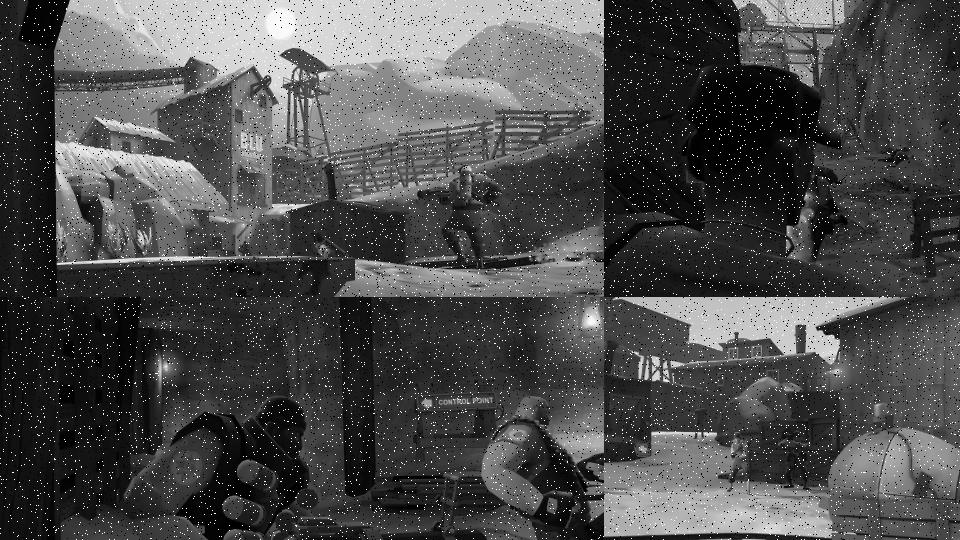Enemy: (604, 57, 960, 297), (122, 397, 489, 540), (481, 393, 604, 540), (778, 160, 872, 266), (416, 164, 503, 271), (778, 429, 813, 491), (726, 430, 752, 495), (685, 403, 707, 440)
